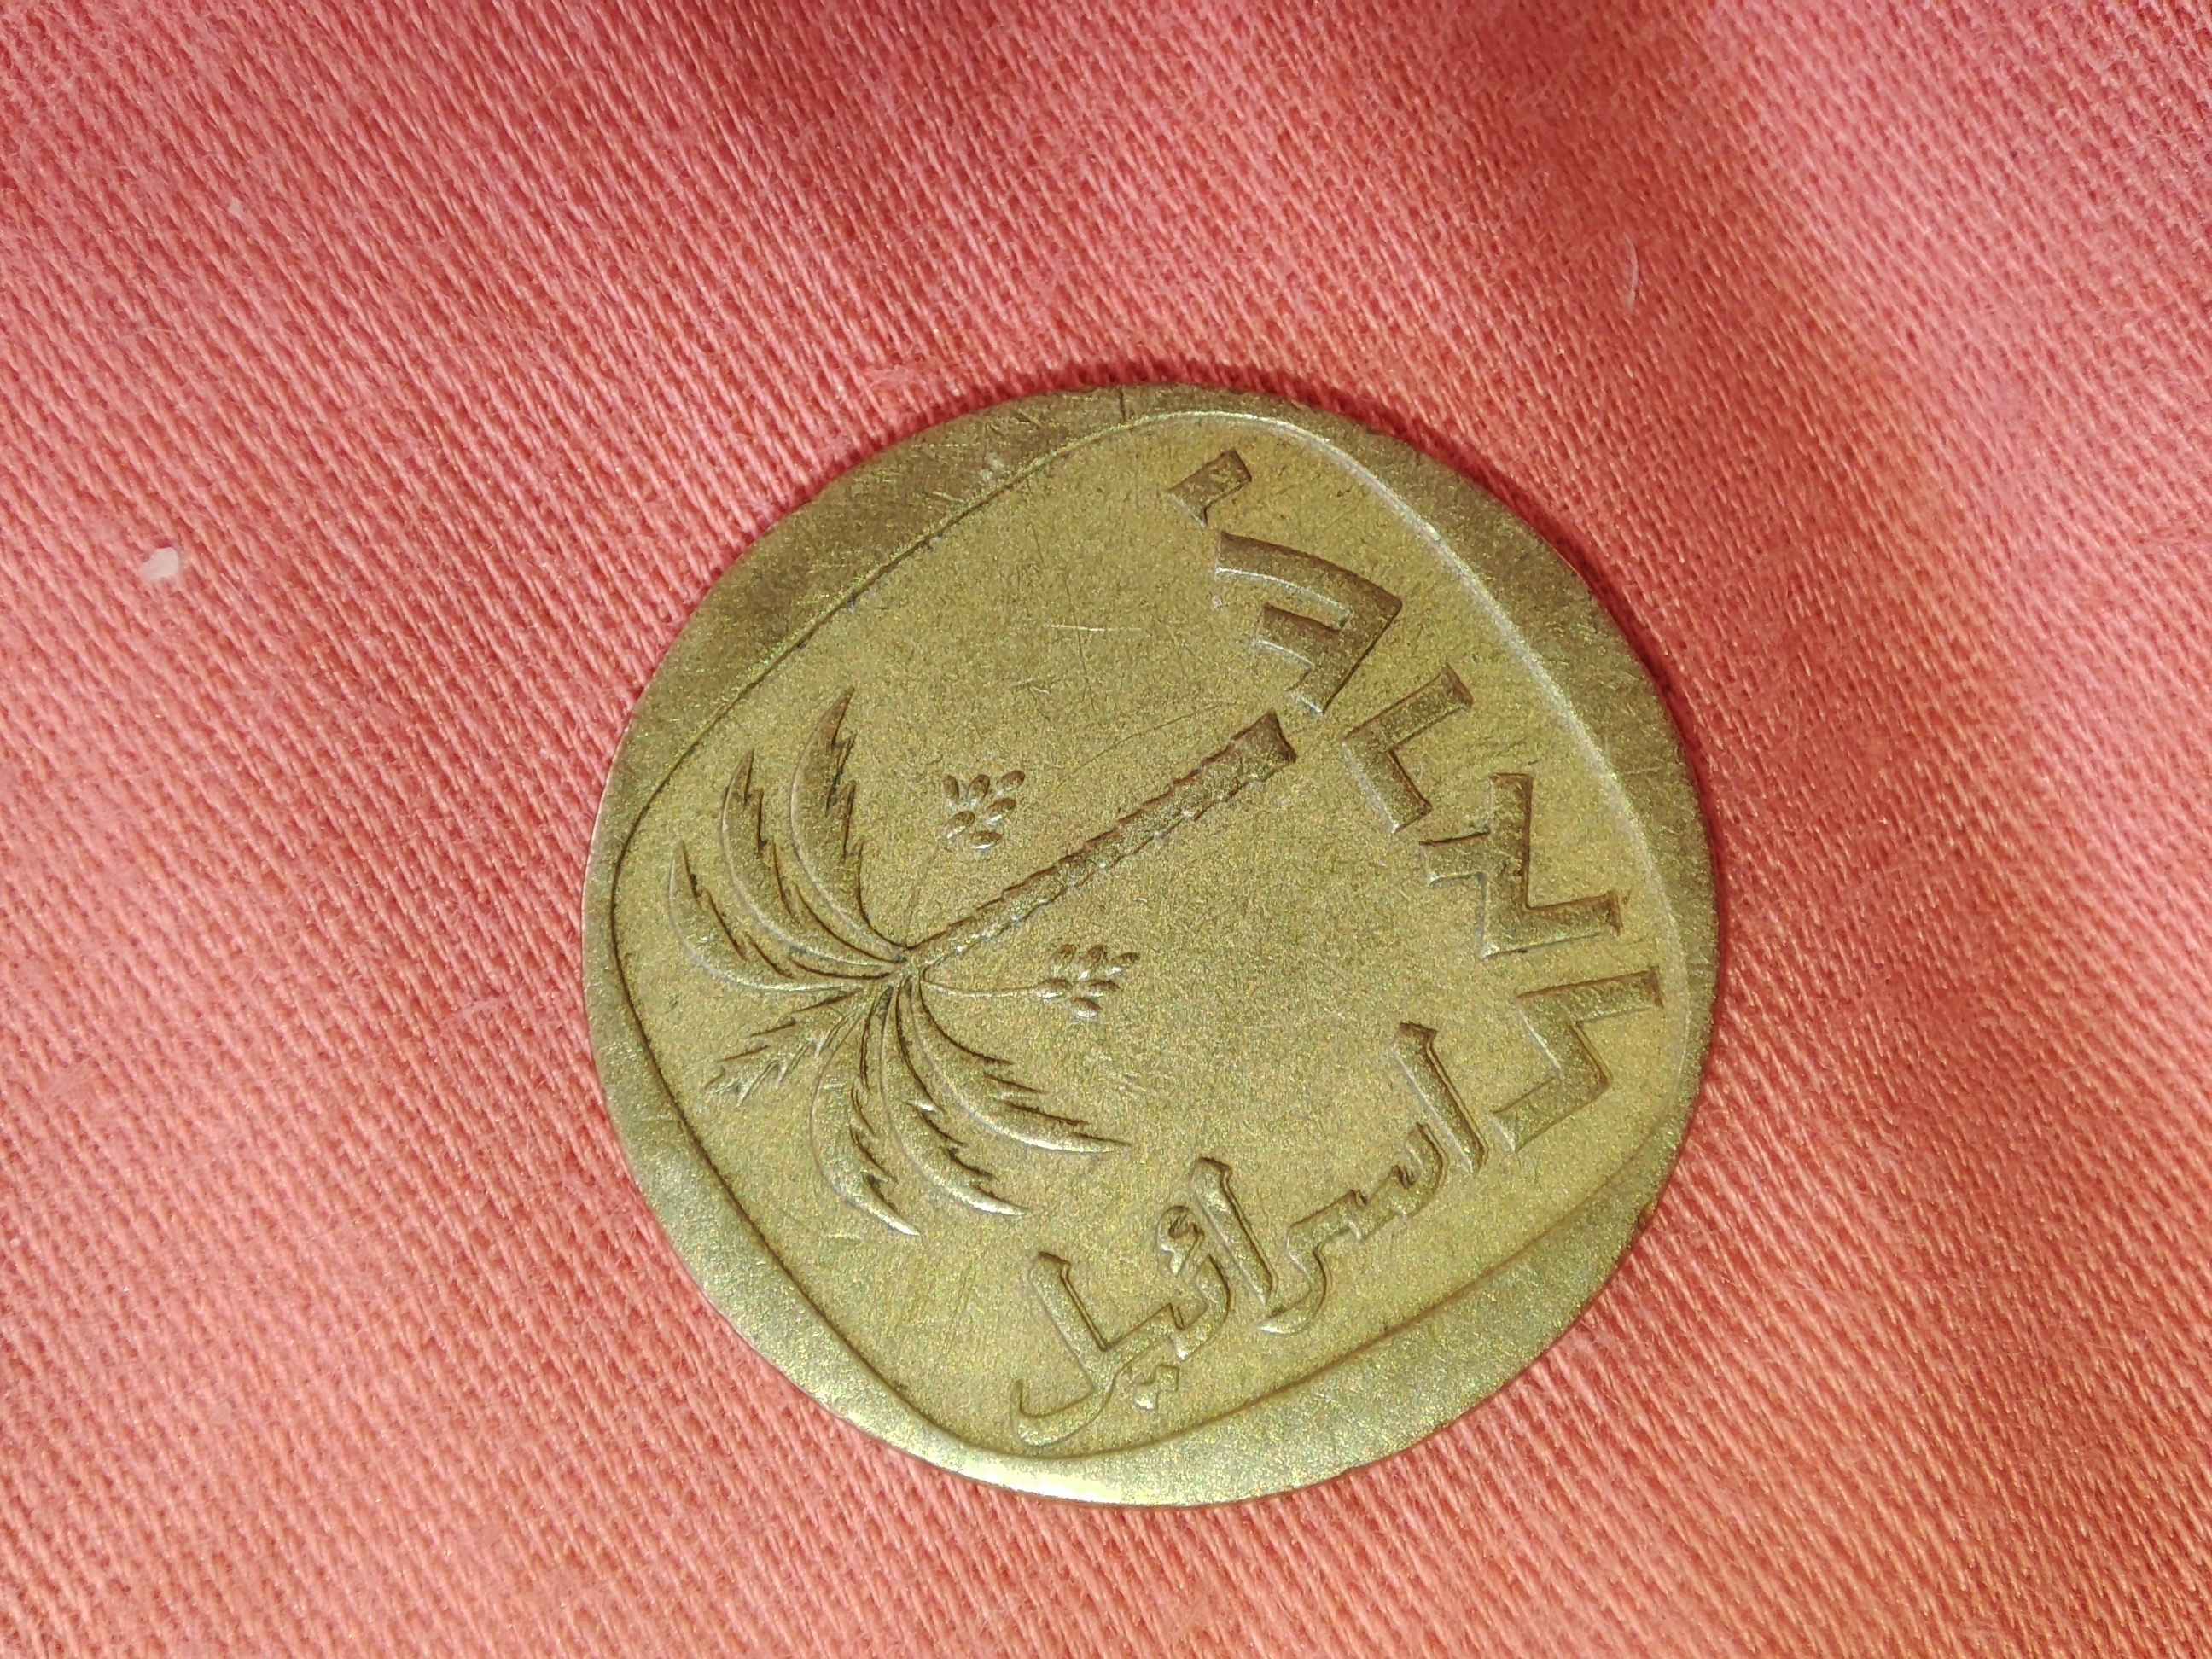10 old agora brown: (575, 376, 1731, 1520)
